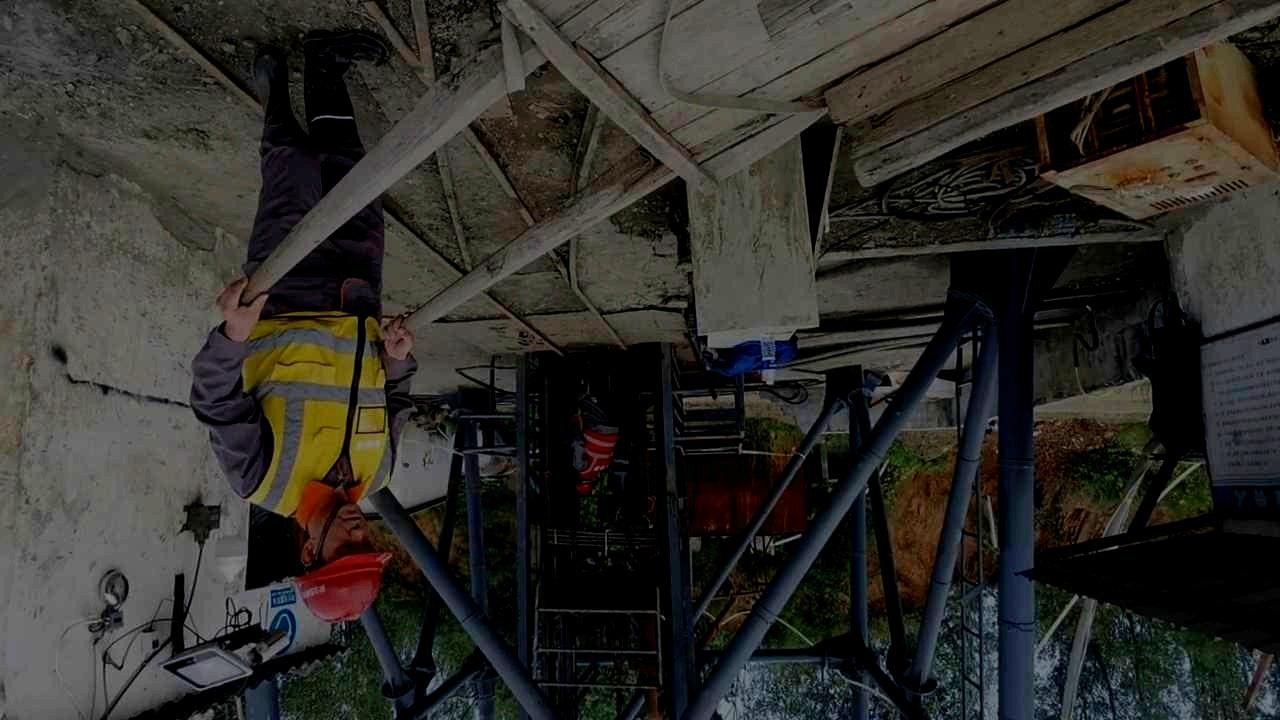helmet: (293, 504, 393, 624), (577, 473, 593, 494)
